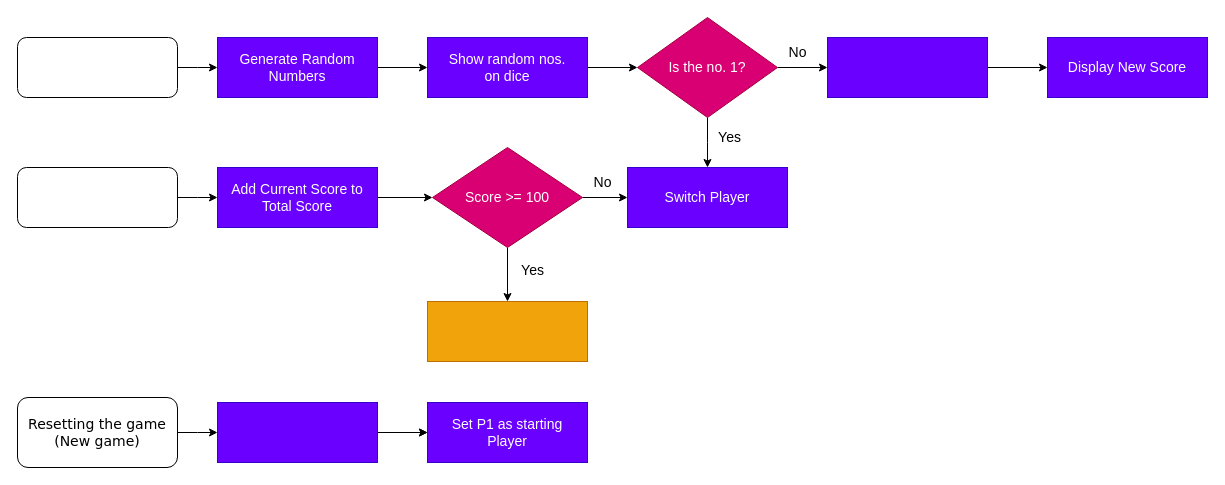
Some shapes in this 1225 by 485 pixel diagram are drawn without their labels. The shapes that lost their labels are listed below. From the top down, each one's centre as x and y in pixels, then its label:
the point at 97,67: Roll Dice button
the point at 907,67: Continue Adding to current score
the point at 97,197: Hold button
the point at 507,331: Current Player Wins!
the point at 297,432: Both Score back to 0
